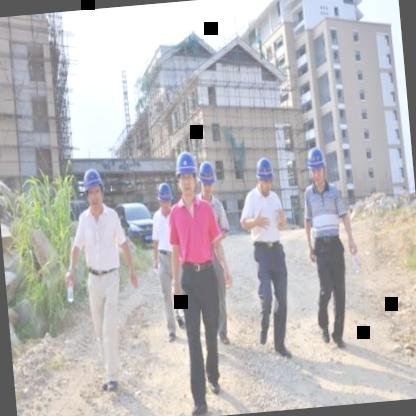helmet: (172, 147, 202, 200), (83, 166, 108, 214), (306, 146, 330, 188), (253, 155, 276, 194), (196, 158, 218, 198), (154, 178, 176, 216)
